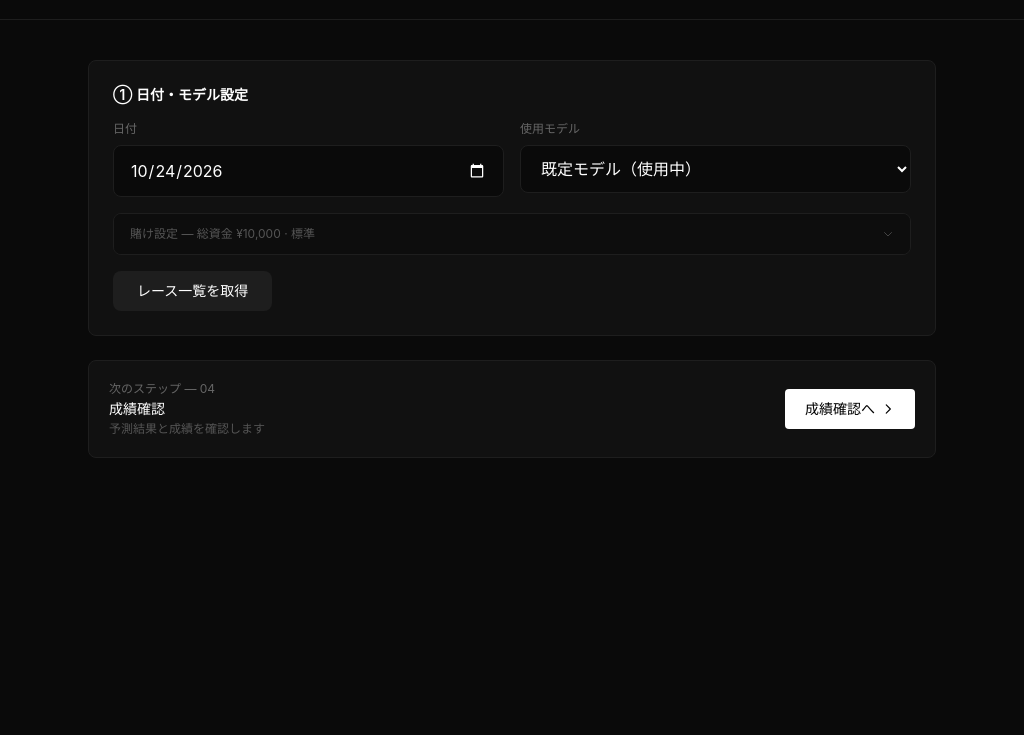
Test: batch latest saved-data prediction › recomputes only on explicit click using DB-only bypass, retaining the first recorded selection
Click the button "レース一覧を取得".
click(193, 291)  # box [113,271,272,311]
(page scrolled)
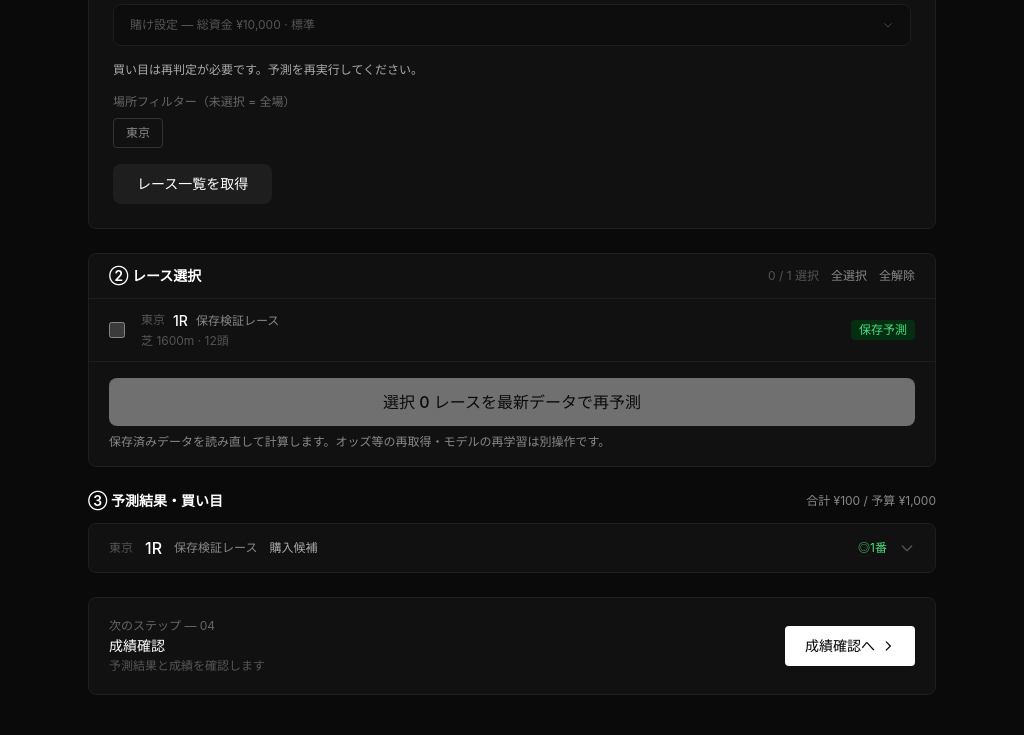
Now the checkbox is shown, box [109,322,125,338]
Now the text "合計 ¥100 / 予算 ¥1,000" is shown, box [806,493,936,509]
Click the button "東京 1R 保存検証レース 購入候補 ◎1番".
click(216, 548)  # box [89,524,935,572]
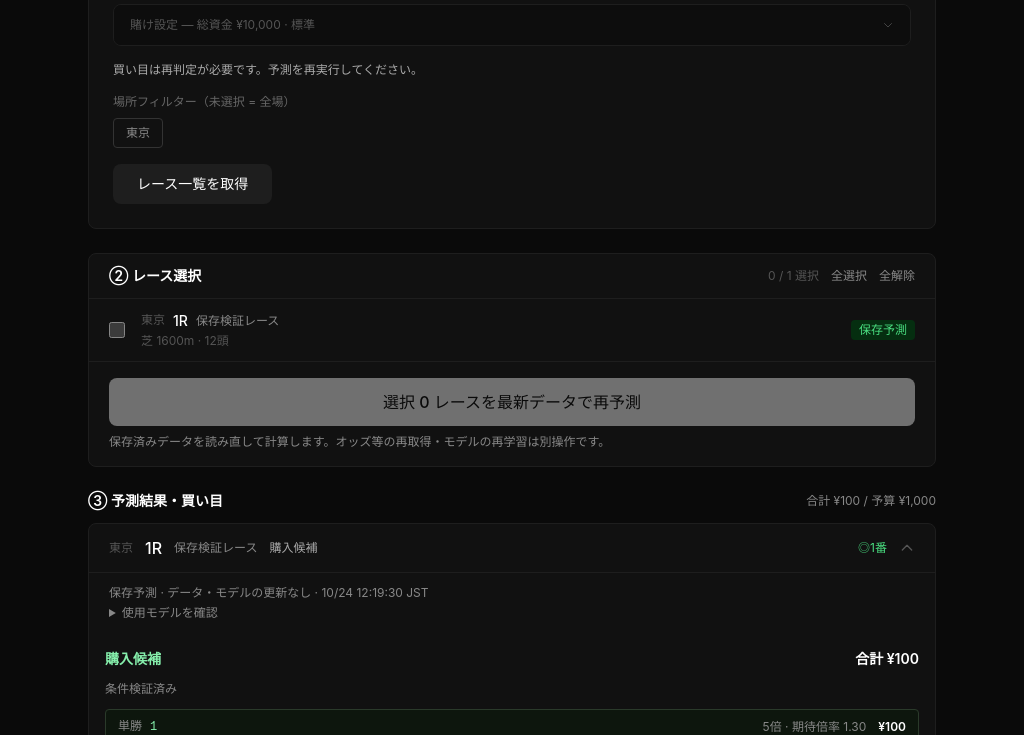
Now the message "保存予測 · データ・モデルの更新なし · 10/24 12:19:30 JST 使用モデルを確認" is shown, box [109,585,428,620]
Click the checkbox.
click(117, 330)  # box [109,322,125,338]
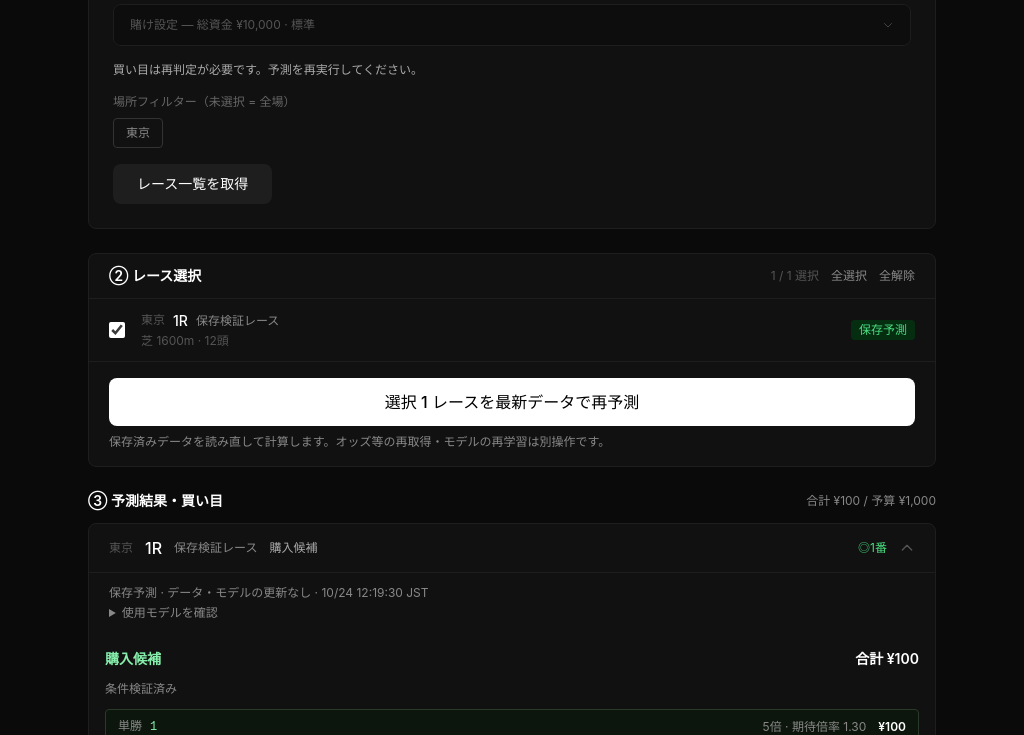
Click the button "選択 1 レースを最新データで再予測".
click(512, 402)  # box [109,378,915,426]
(page scrolled)
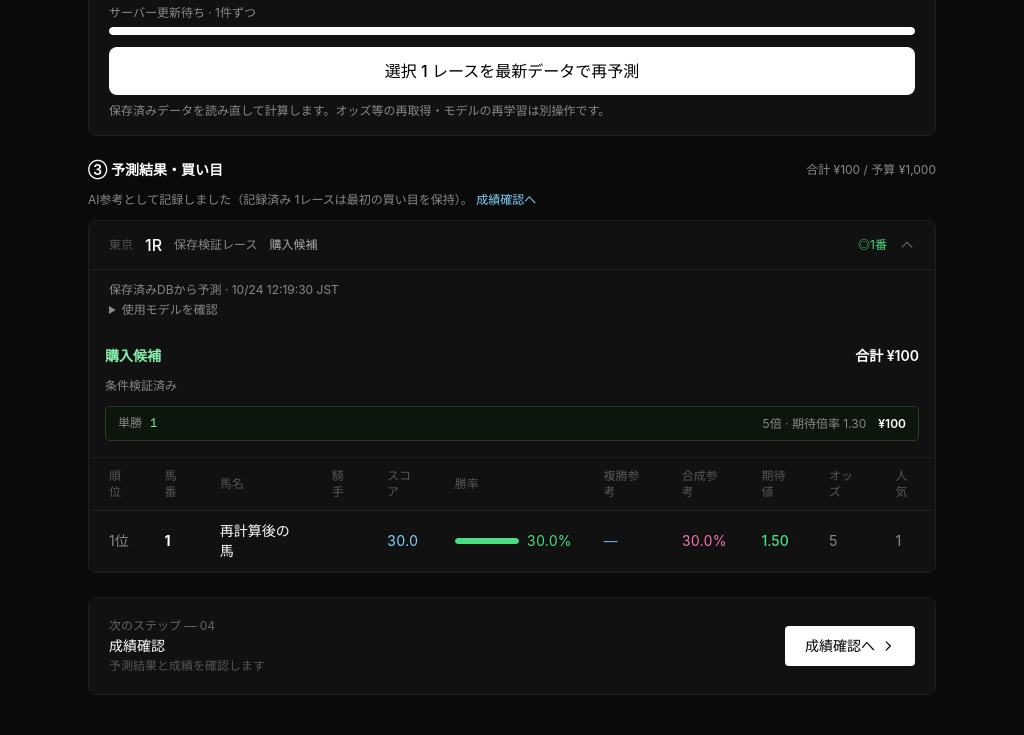
Now the text "再計算後の馬" is shown, box [204,510,316,572]
